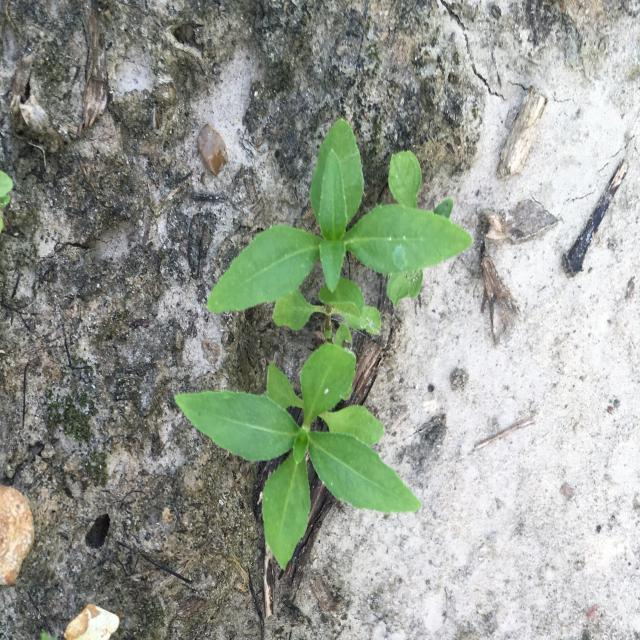Eclipta: (174, 119, 472, 570)
